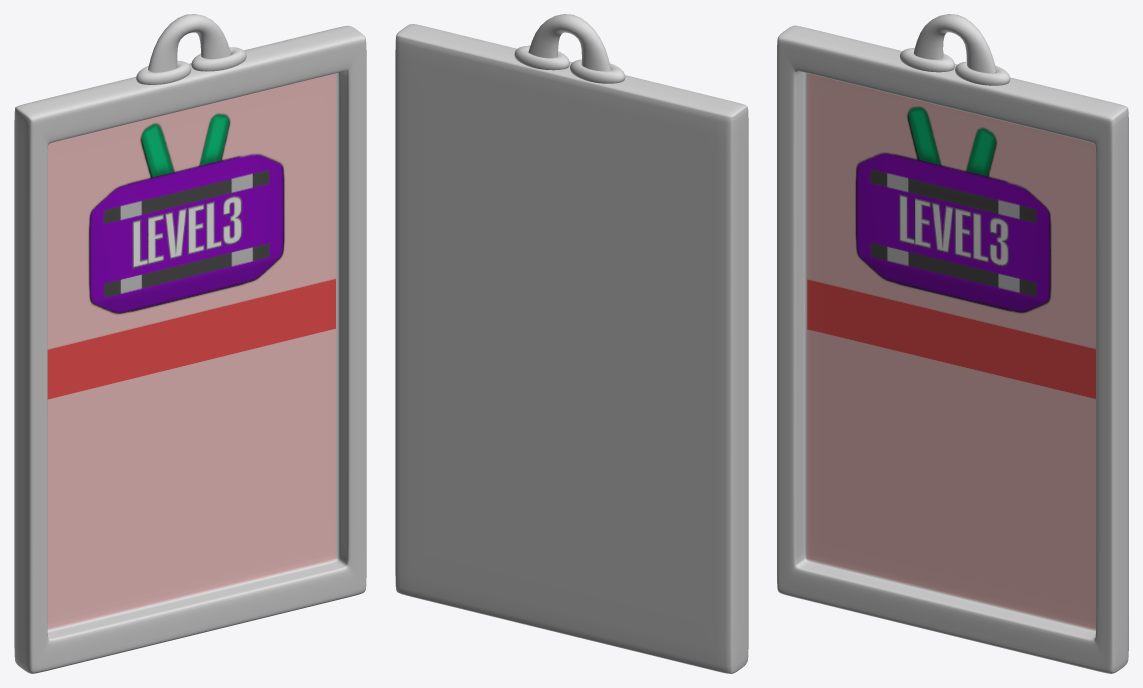
File: Frame-L3.fbx
The picture shows the model from 3 angles, left to right: view 1: azimuth 30°, elevation 25°; view 2: azimuth 150°, elevation 25°; view 3: azimuth 330°, elevation 25°; orthographic projection.
Visible parts, largest first — view 1: Frame1; view 2: Frame1; view 3: Frame1.
Part boxes in pixels (box(x1,y1,x2,y2)): Frame1: box(14, 14, 366, 673); Frame1: box(395, 14, 748, 673); Frame1: box(777, 14, 1128, 673).
Bounding box in the file's own units: 11.07 × 19.17 × 1.03.
Materials: 2 (1 with a texture image).
